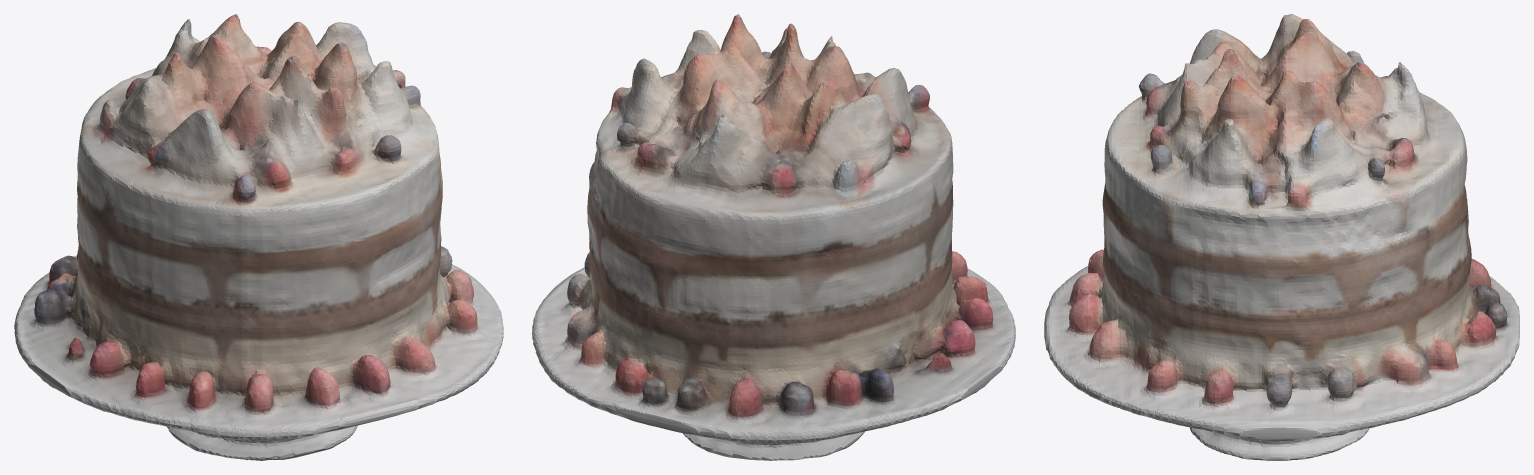
The model's file is full.glb.
3 renders of one model, left to right at view 1: azimuth 30°, elevation 25°; view 2: azimuth 150°, elevation 25°; view 3: azimuth 270°, elevation 25°, orthographic.
Visible parts, largest first — view 1: world; view 2: world; view 3: world.
Part boxes in pixels (x1,y1,x2,y2): world: (14, 14, 503, 460); world: (532, 14, 1015, 460); world: (1044, 14, 1519, 460).
Size of the model in its own units: 1.98 by 1.74 by 1.96.
